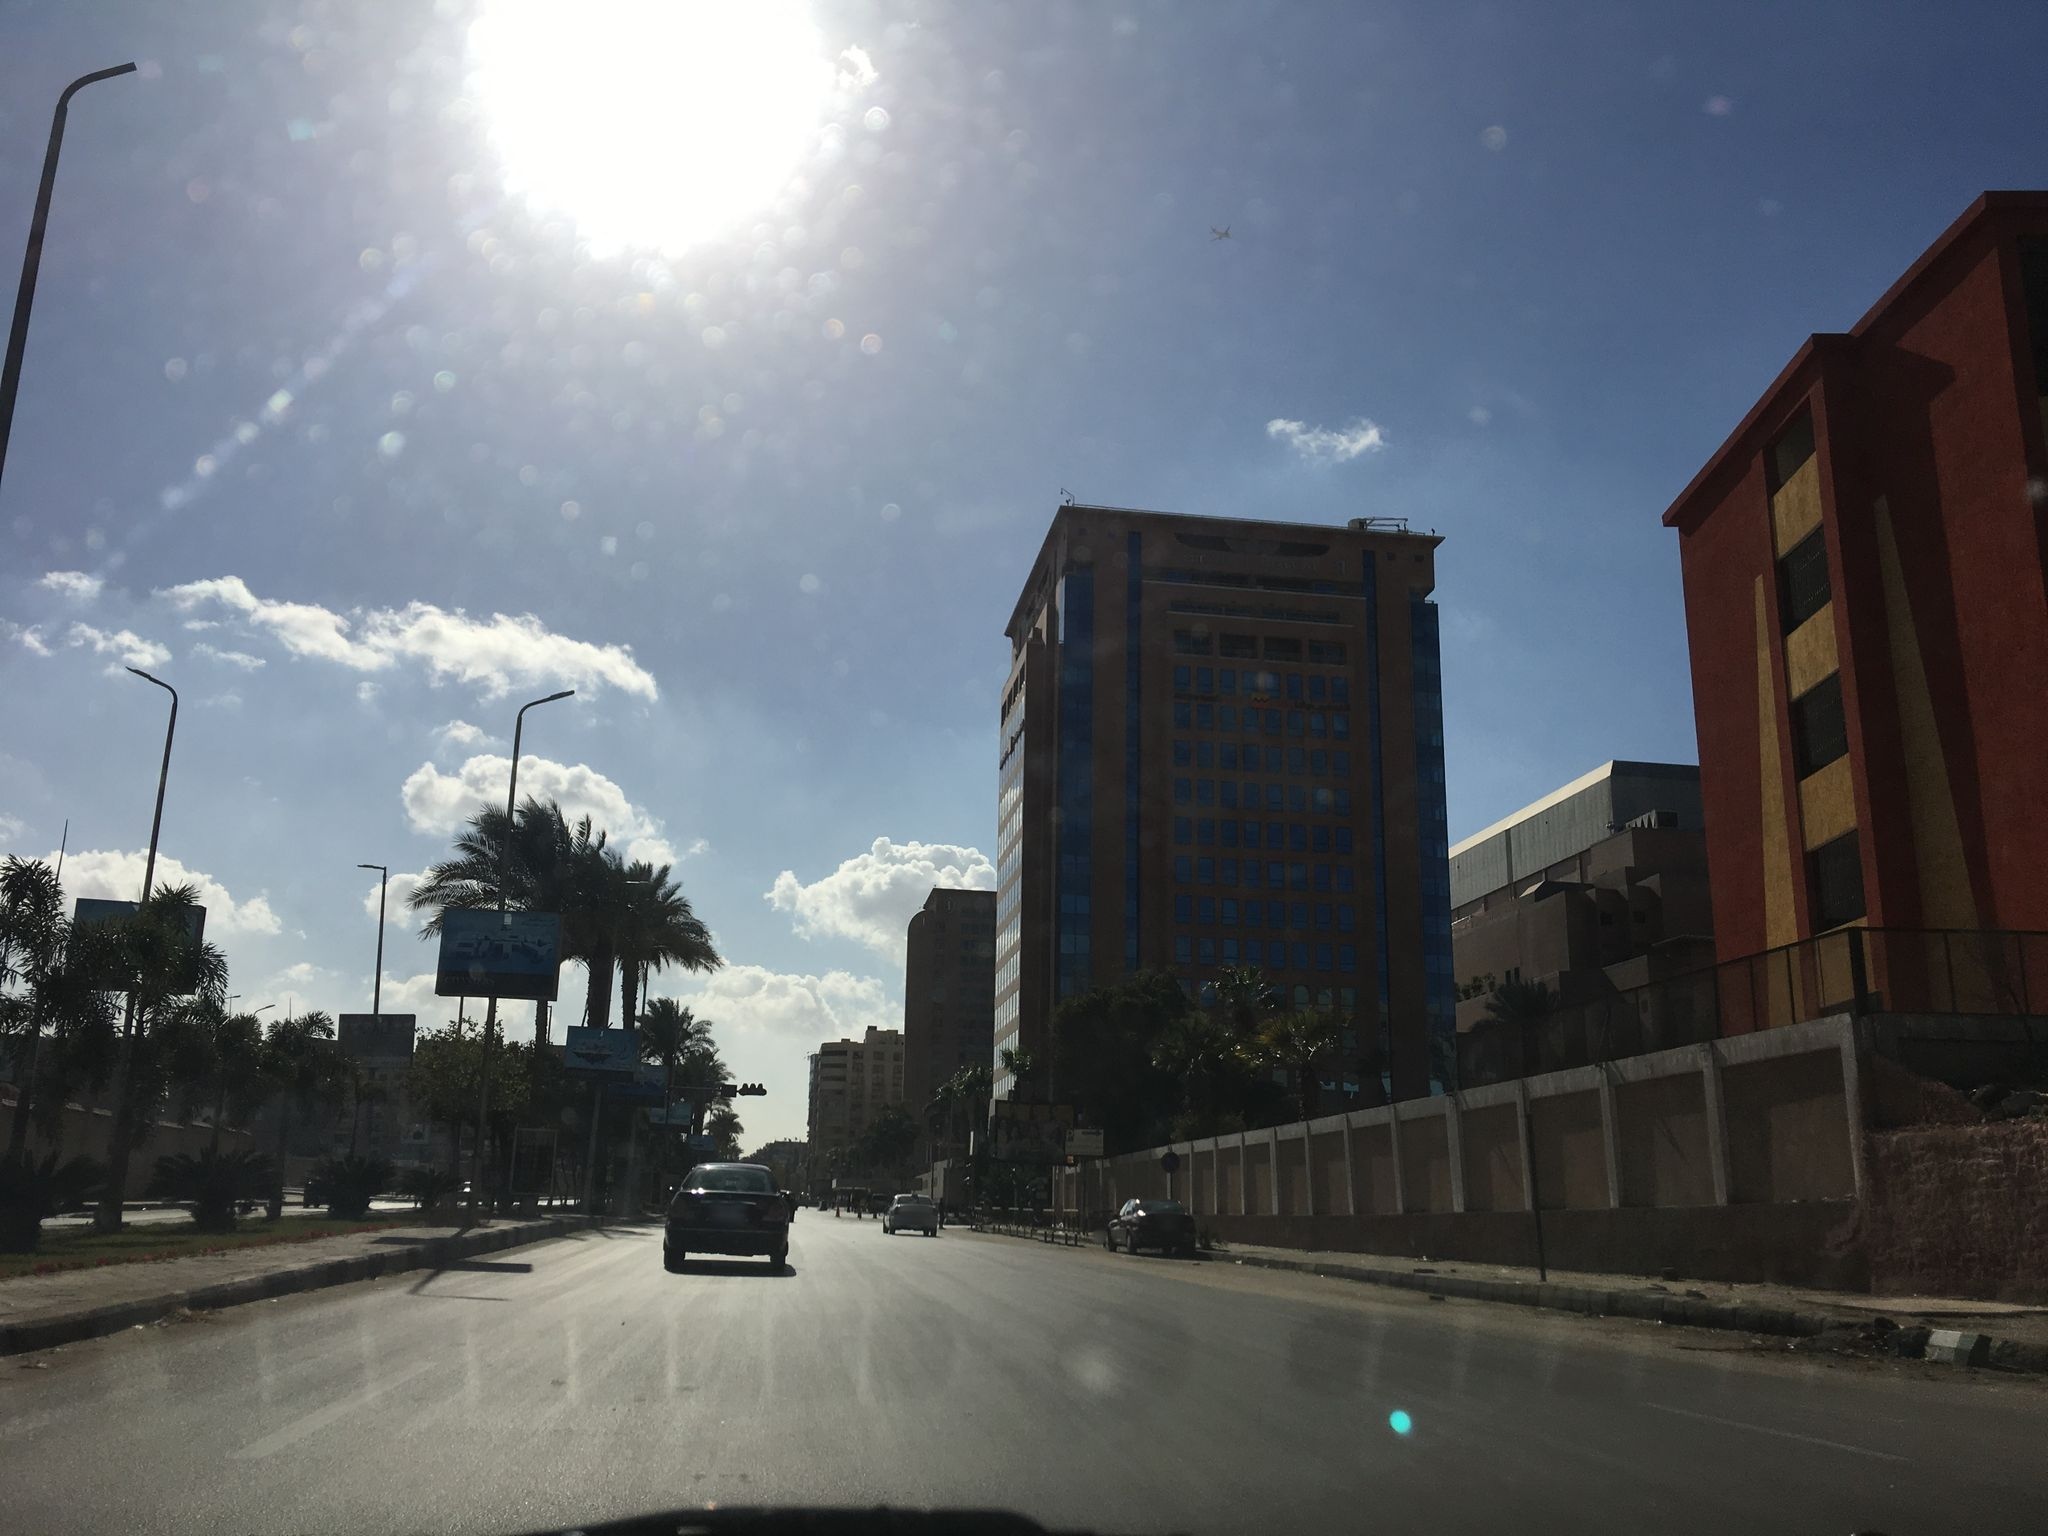car: (661, 1160, 793, 1270), (1106, 1199, 1197, 1258), (882, 1192, 939, 1238)
